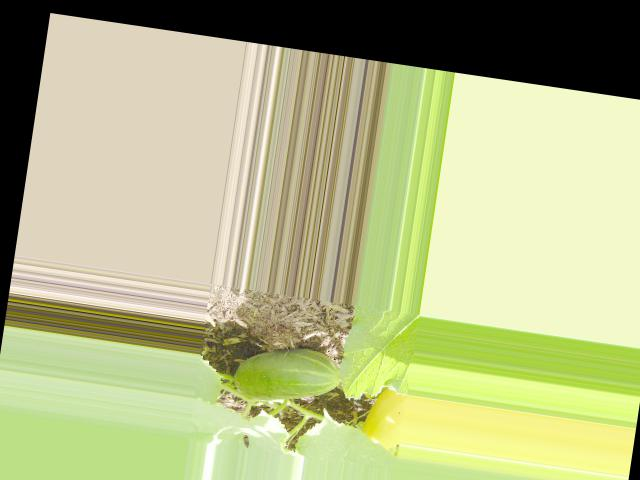cucumber: (231, 338, 344, 410)
